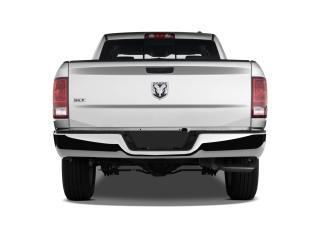ram: (146, 77, 174, 104)
